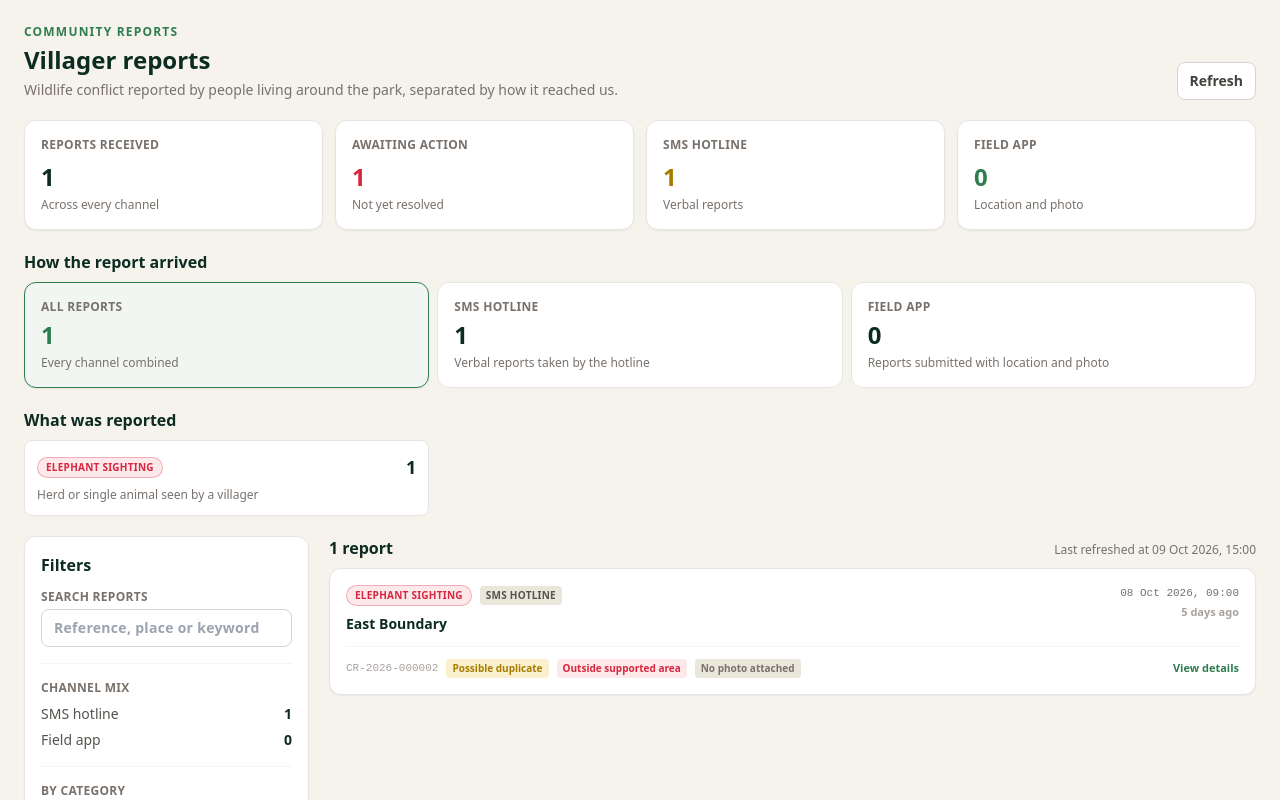
Test case: VillagerReportsPage › says what is missing from a thin SMS report instead of leaving a gap
Click the button "Elephant sighting" at (409, 596), box [330, 569, 1255, 694]
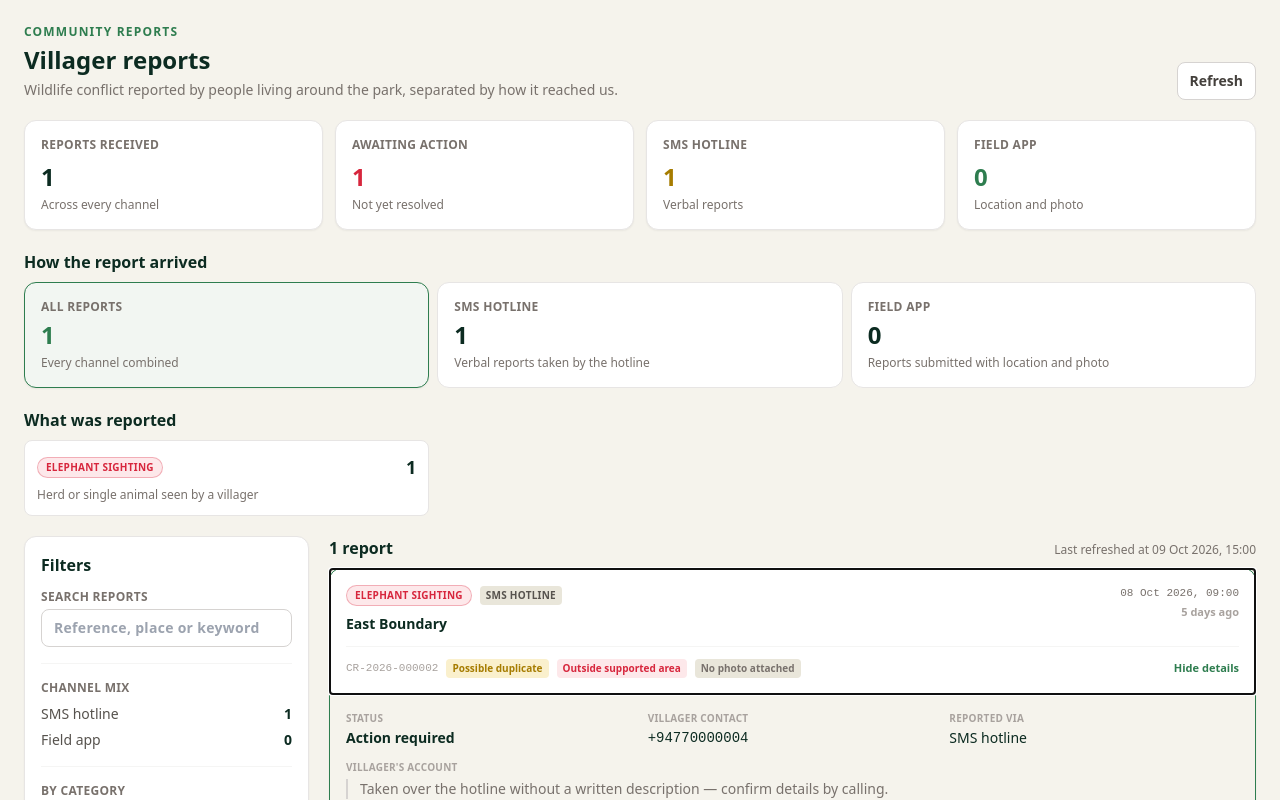
Now the text "Taken over the hotline without a written description" is shown, box [360, 779, 888, 798]
